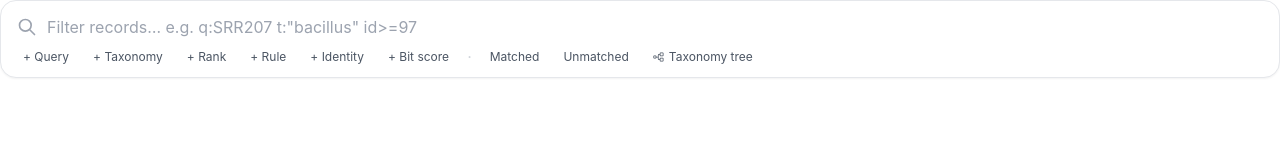
FilterBar › '+ Taxonomy' inserts t: into the box and focuses it
Click the button "+ Taxonomy". click: [128, 57]
box: [83, 47, 173, 67]
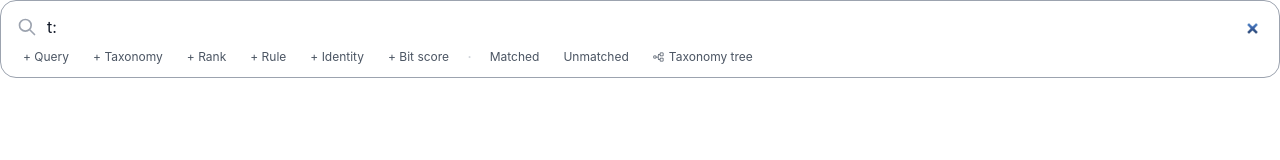
Expected: the dropdown named "Filter records" holds "t:", [45, 13, 1263, 41]
